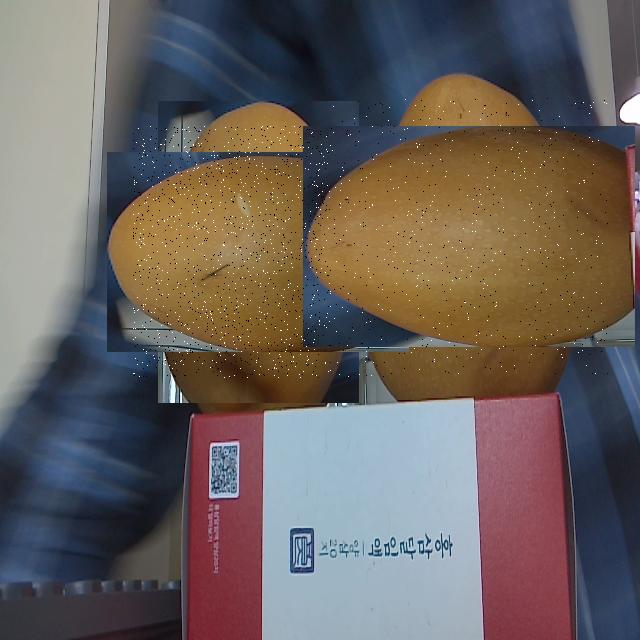pear: (331, 98, 608, 374), (133, 126, 384, 378)
